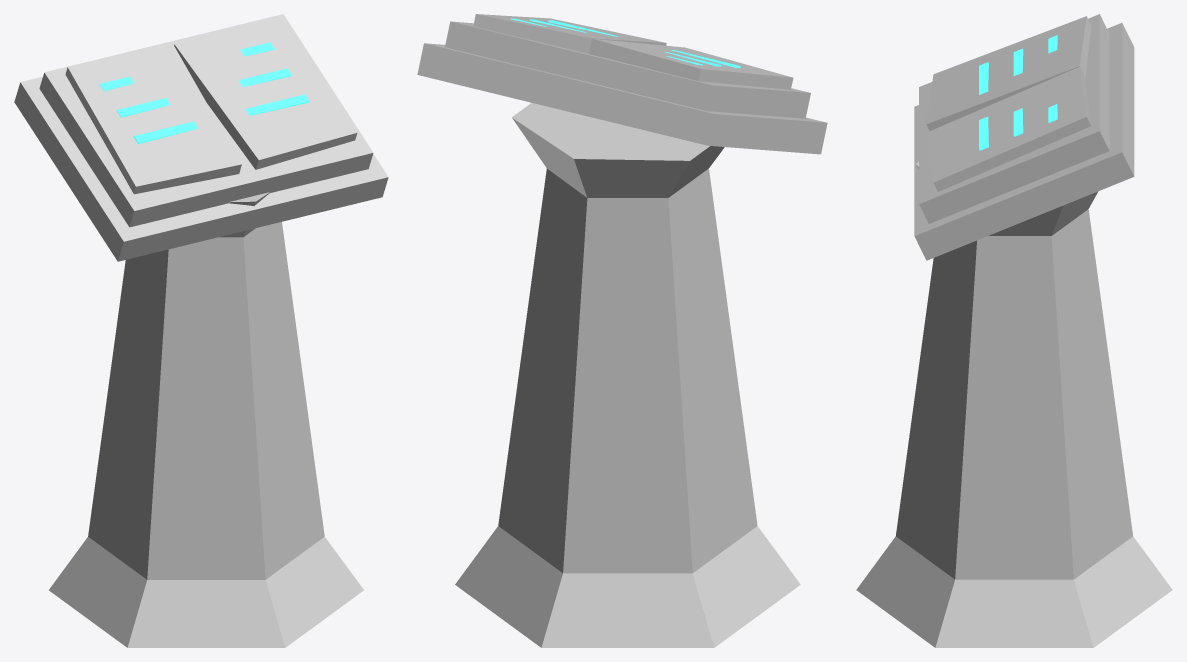
Rendered from tome_lectern.glb.
3 renders of one model, left to right at view 1: azimuth 30°, elevation 25°; view 2: azimuth 150°, elevation 25°; view 3: azimuth 270°, elevation 25°, orthographic. The views are drawn at different scales.
Visible parts, largest first — view 1: tome_lectern; view 2: tome_lectern; view 3: tome_lectern.
Part boxes in pixels (left/top/right/bottom): tome_lectern: left=14, top=14, right=388, bottom=647; tome_lectern: left=417, top=14, right=827, bottom=647; tome_lectern: left=856, top=14, right=1172, bottom=647.
Bounding box in the file's own units: 0.62 × 1.17 × 0.64.
